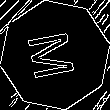M_E: (26, 28, 84, 82)
